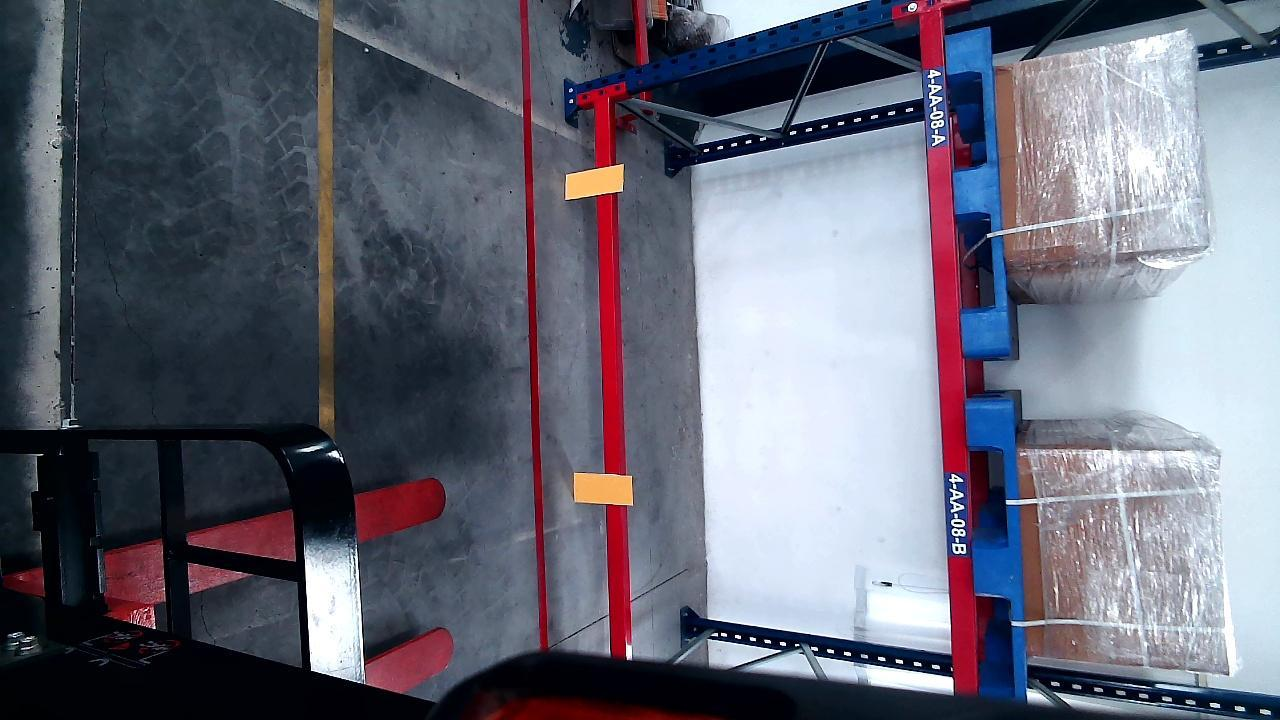red_line: (517, 1, 547, 651)
yellow_line: (314, 3, 337, 420)
